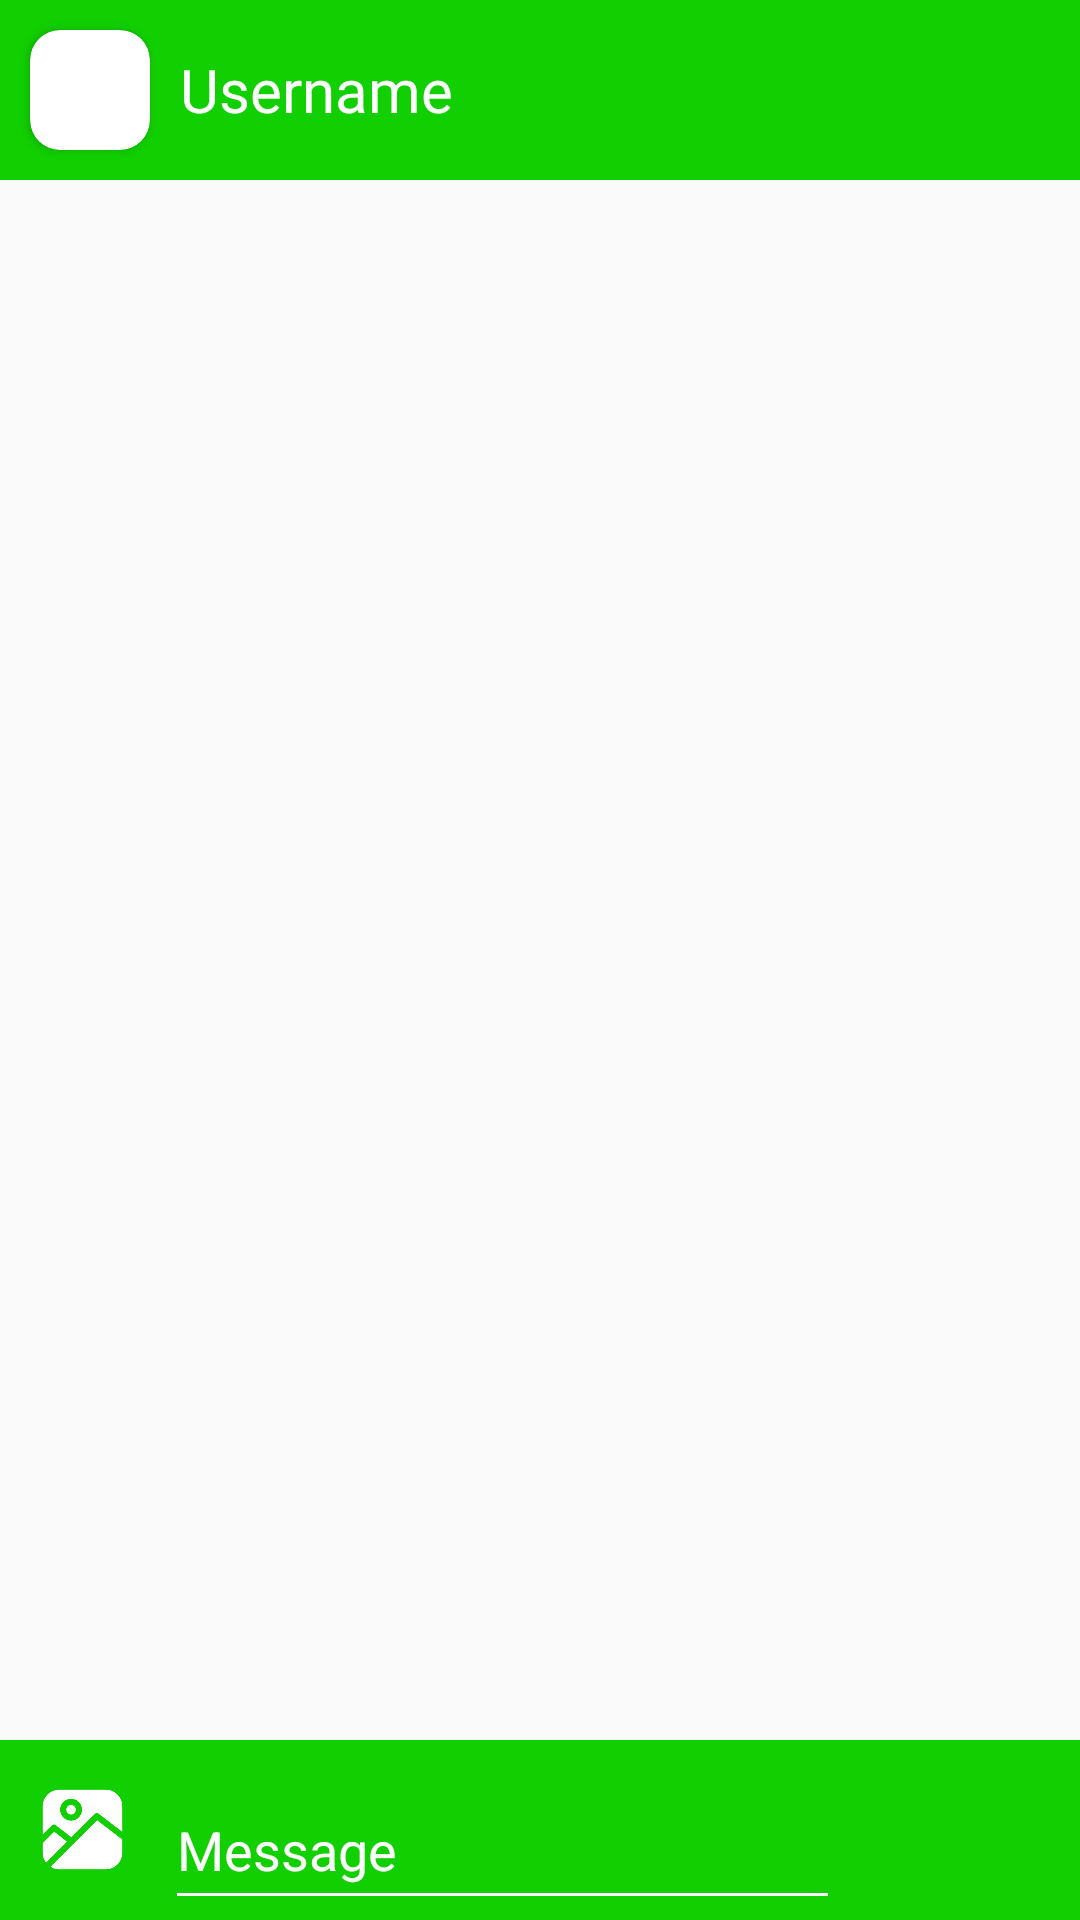

Screen size 1080 × 1920. Icon name, then its center in pixels as point (x, y):
gallery: point (82, 1829)
